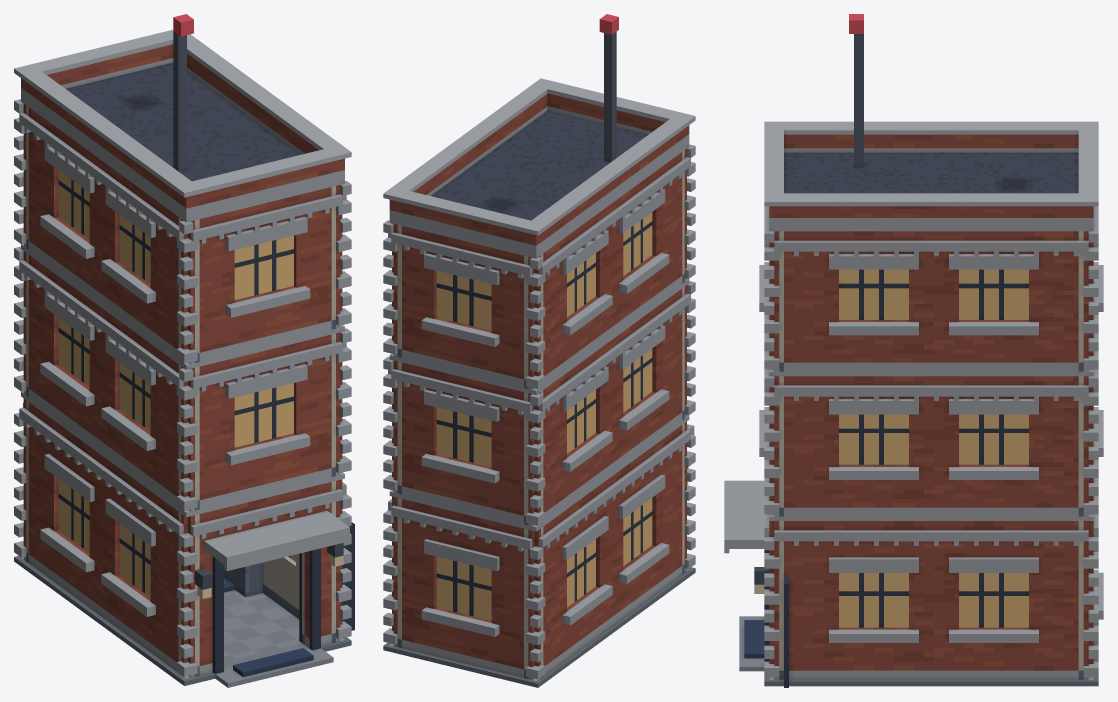
The picture shows the model from 3 angles, left to right: view 1: azimuth 30°, elevation 25°; view 2: azimuth 150°, elevation 25°; view 3: azimuth 270°, elevation 25°; orthographic projection. The views are drawn at different scales.
Parts seen in each view (by area): view 1: CutUpper, Base, CutNX, CutPZ, CutNZ; view 2: CutUpper, CutNZ, CutNX, Base, CutPZ; view 3: CutUpper, CutPX, Base, CutPZ, CutNZ.
Part boxes in pixels (x1=…): CutUpper: x1=14, y1=14, x2=351, y2=517; Base: x1=14, y1=520, x2=354, y2=687; CutNX: x1=19, y1=402, x2=183, y2=629; CutPZ: x1=177, y1=479, x2=354, y2=639; CutNZ: x1=14, y1=398, x2=28, y2=521; CutUpper: x1=383, y1=14, x2=695, y2=531; CutNZ: x1=383, y1=496, x2=545, y2=645; CutNX: x1=538, y1=425, x2=690, y2=635; Base: x1=383, y1=534, x2=695, y2=687; CutPZ: x1=682, y1=421, x2=695, y2=535; CutUpper: x1=759, y1=14, x2=1103, y2=520; CutPX: x1=774, y1=521, x2=1088, y2=642; Base: x1=739, y1=569, x2=1098, y2=687; CutPZ: x1=724, y1=460, x2=788, y2=647; CutNZ: x1=1078, y1=460, x2=1103, y2=640.
Size of the model in its own units: 4.2 by 13.5 by 7.6.
